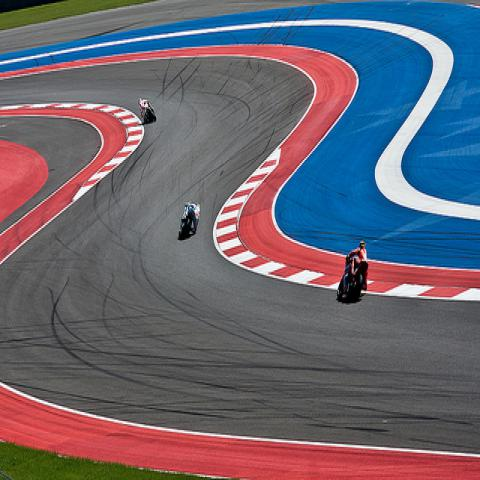motorcycle: (337, 255, 369, 302), (178, 201, 195, 239), (143, 103, 156, 124)
